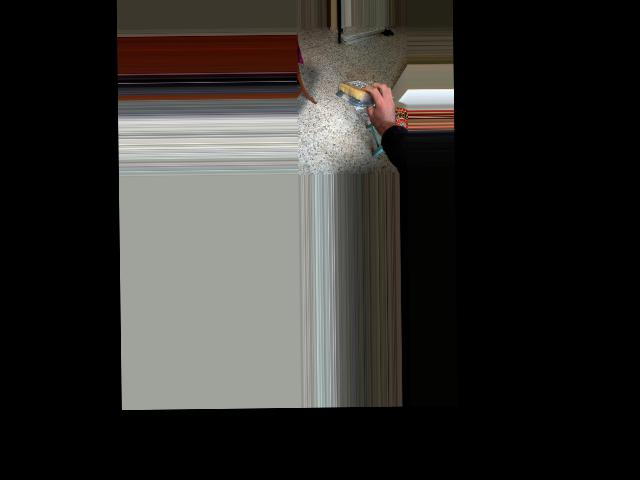cheese: (335, 79, 381, 103)
